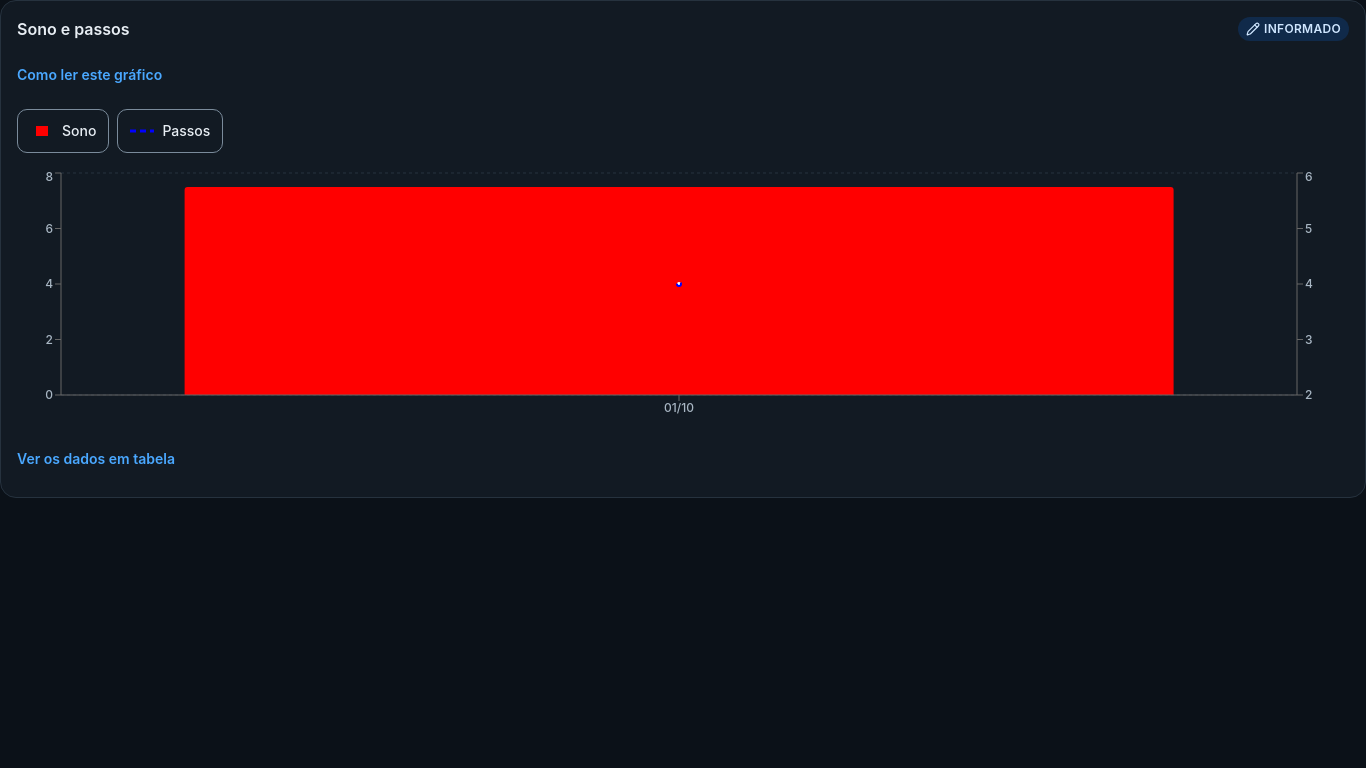
it: gráficos (§13, §34) › "Como ler este gráfico": séries com tipo, traço, eixo e unidade; selo e o que fazer
What coordinates should you click on to do the following:
click the heading "Como ler este gráfico"
I would click on:
 (90, 74)
Its box is [17, 66, 162, 83].
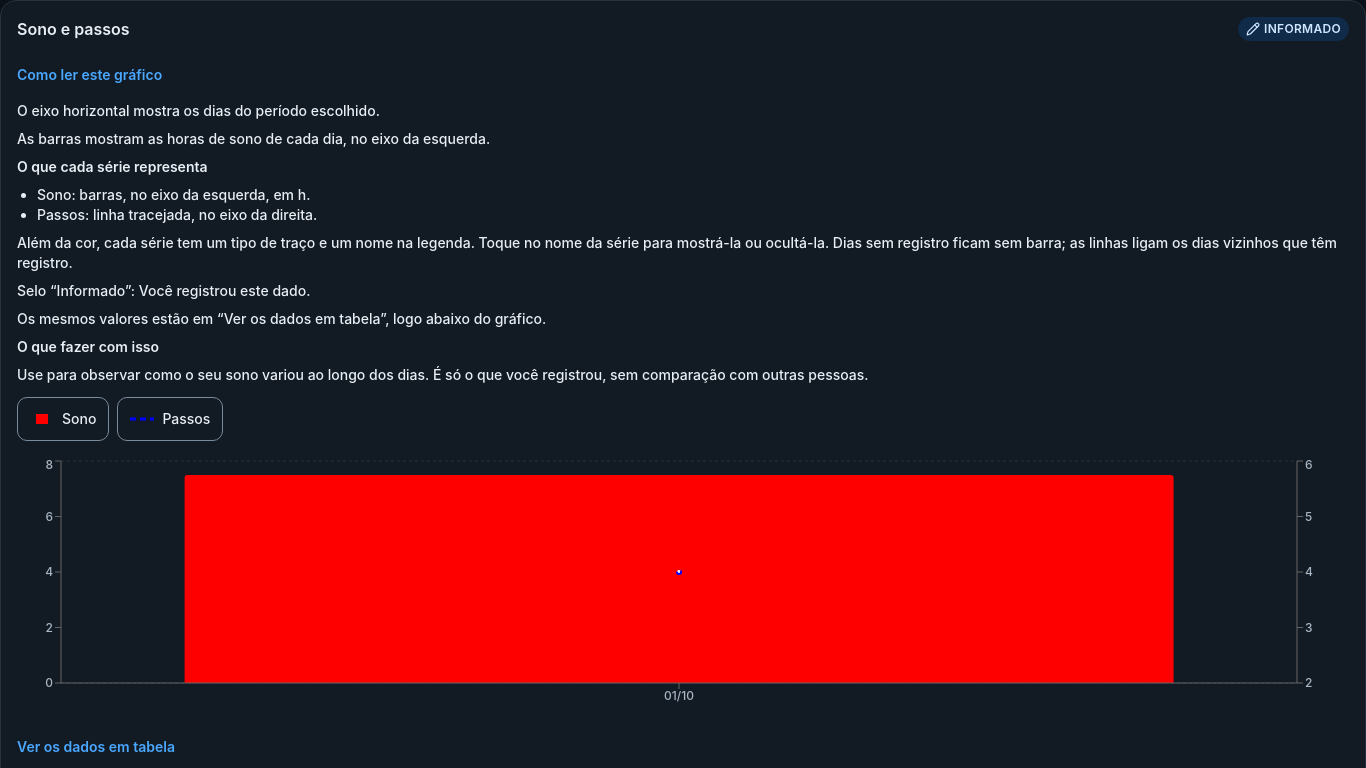
Check: the text "Como ler este gráfico" shows "Sono: barras, no eixo da esquerda, em h.", box [37, 186, 310, 203]
Check: the text "Como ler este gráfico" shows "Passos: linha tracejada, no eixo da direita.", box [37, 206, 317, 223]
Check: the text "Como ler este gráfico" shows "Selo “Informado”: Você registrou este dado.", box [17, 282, 310, 299]
